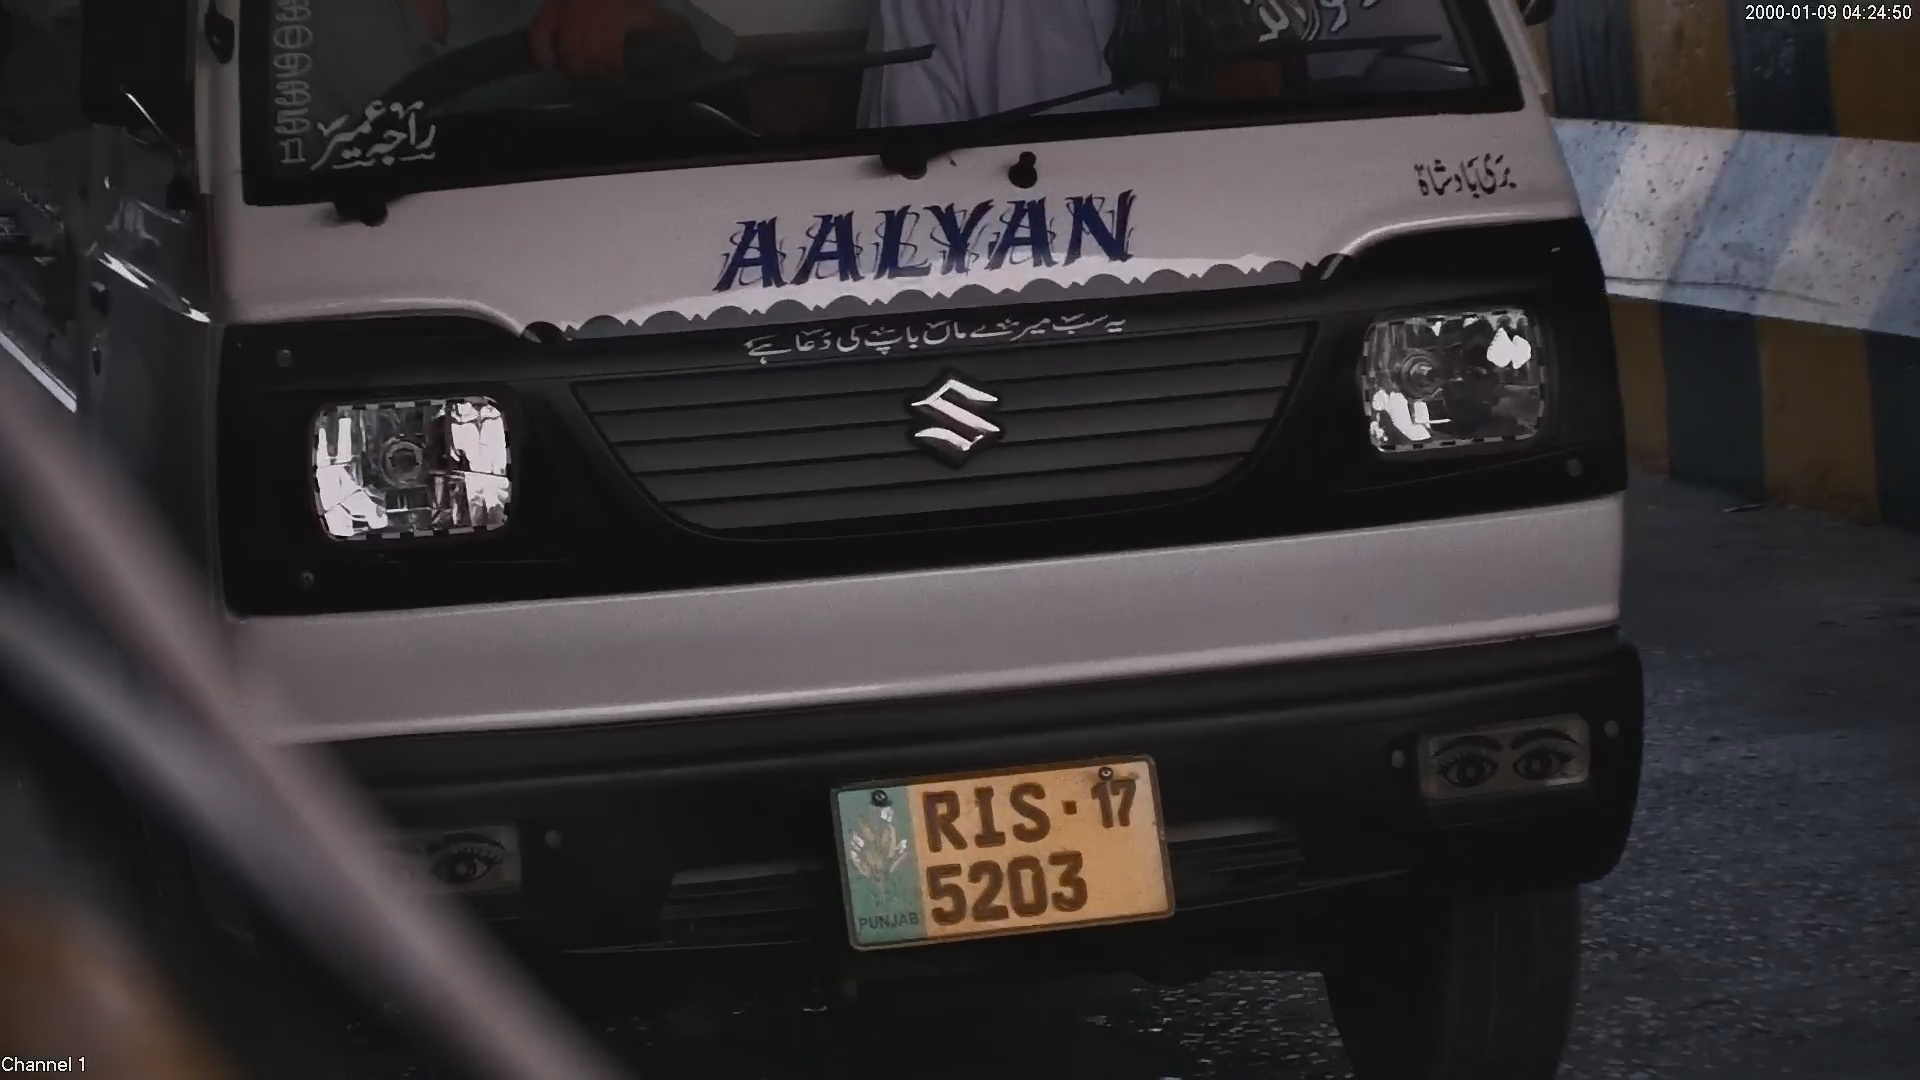Number_Plate: (821, 742, 1187, 949)
Undefined: (702, 192, 1143, 270), (304, 396, 519, 544), (1358, 314, 1556, 459), (737, 305, 1137, 357), (1410, 701, 1597, 803), (330, 820, 521, 892), (295, 90, 443, 177), (906, 373, 1002, 464), (1397, 136, 1521, 203)
